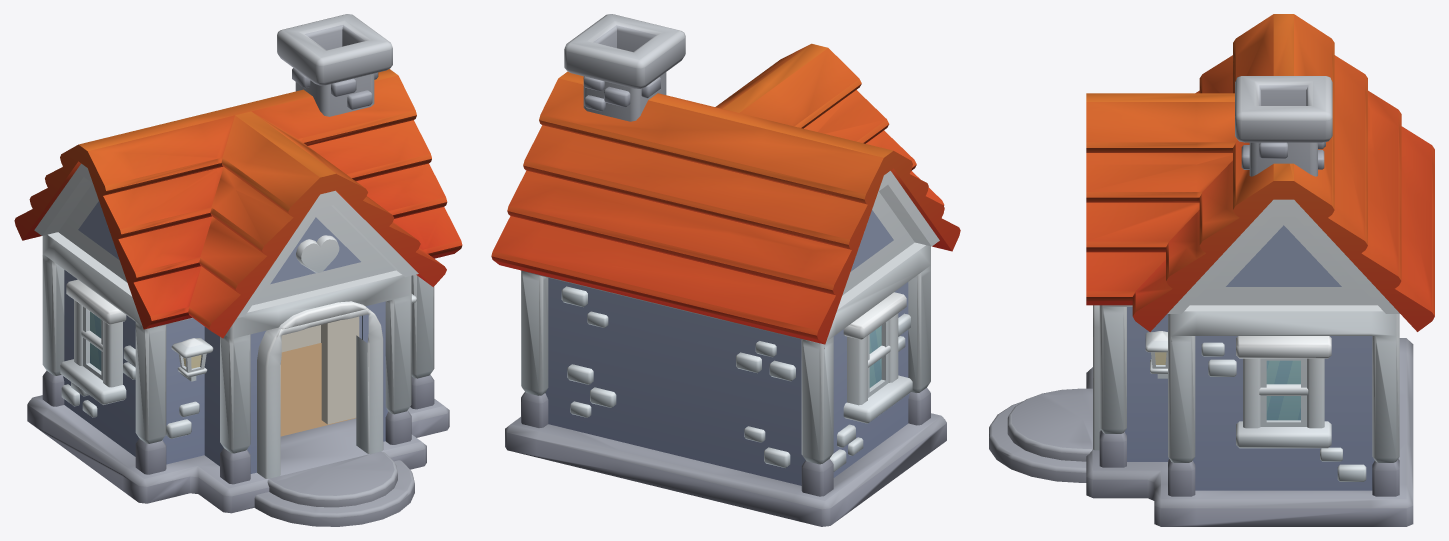
Rendered from tiny-treats-cottage-v1.glb.
3 views of the same model, side by side, from view 1: azimuth 30°, elevation 25°; view 2: azimuth 150°, elevation 25°; view 3: azimuth 270°, elevation 25° (orthographic). The views are drawn at different scales.
Visible parts, largest first — view 1: roof, wall_south, floor, wall_west, wall_north; view 2: roof, wall_north, floor, wall_west; view 3: roof, wall_east, floor, wall_south, wall_north.
Boxes of the visible parts, x1=… form: roof: x1=14, y1=14, x2=462, y2=338; wall_south: x1=145, y1=274, x2=434, y2=484; floor: x1=27, y1=343, x2=449, y2=526; wall_west: x1=42, y1=254, x2=146, y2=473; wall_north: x1=42, y1=255, x2=320, y2=374; roof: x1=491, y1=14, x2=960, y2=344; wall_north: x1=521, y1=270, x2=824, y2=496; floor: x1=505, y1=413, x2=946, y2=526; wall_west: x1=822, y1=265, x2=930, y2=495; roof: x1=1086, y1=14, x2=1434, y2=335; wall_east: x1=1171, y1=336, x2=1396, y2=496; floor: x1=989, y1=338, x2=1413, y2=526; wall_south: x1=1093, y1=305, x2=1173, y2=495; wall_north: x1=1394, y1=334, x2=1399, y2=496.
Bounding box in the file's own units: 5.9 × 6.5 × 6.54.
Materials: 3 (1 with a texture image).
